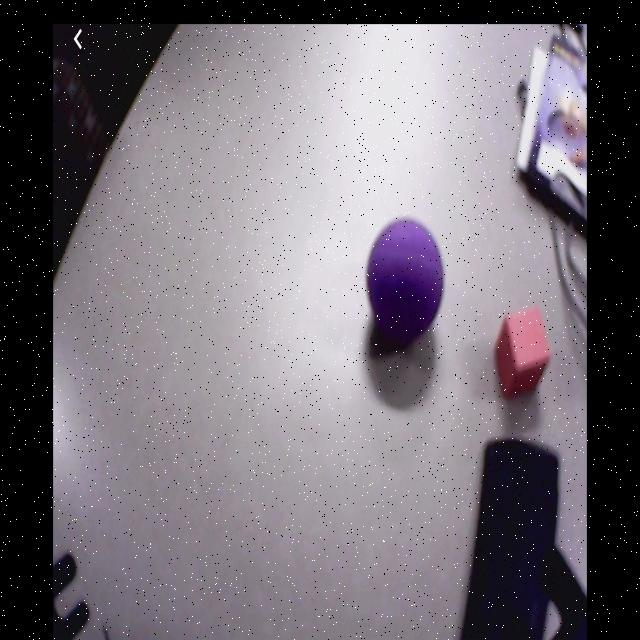ball: (368, 220, 444, 333)
